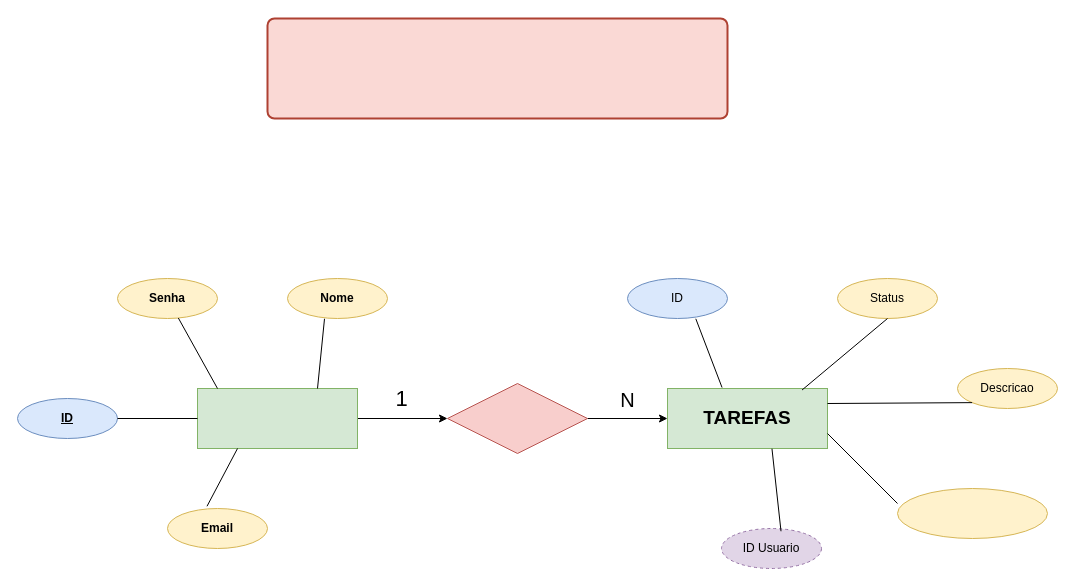
Image size: 1075x586. Some labels were removed from this diagram. Here are the shapes that lost their labels. From the top down, the box of each, then its label:
(266, 17, 728, 119): DER-CONCEITUAL GERENCIAMENTO DE TAREFAS
(196, 388, 358, 448): USUÁRIO
(446, 382, 588, 454): POSSUI
(896, 488, 1048, 538): Data_de_Vencimento
